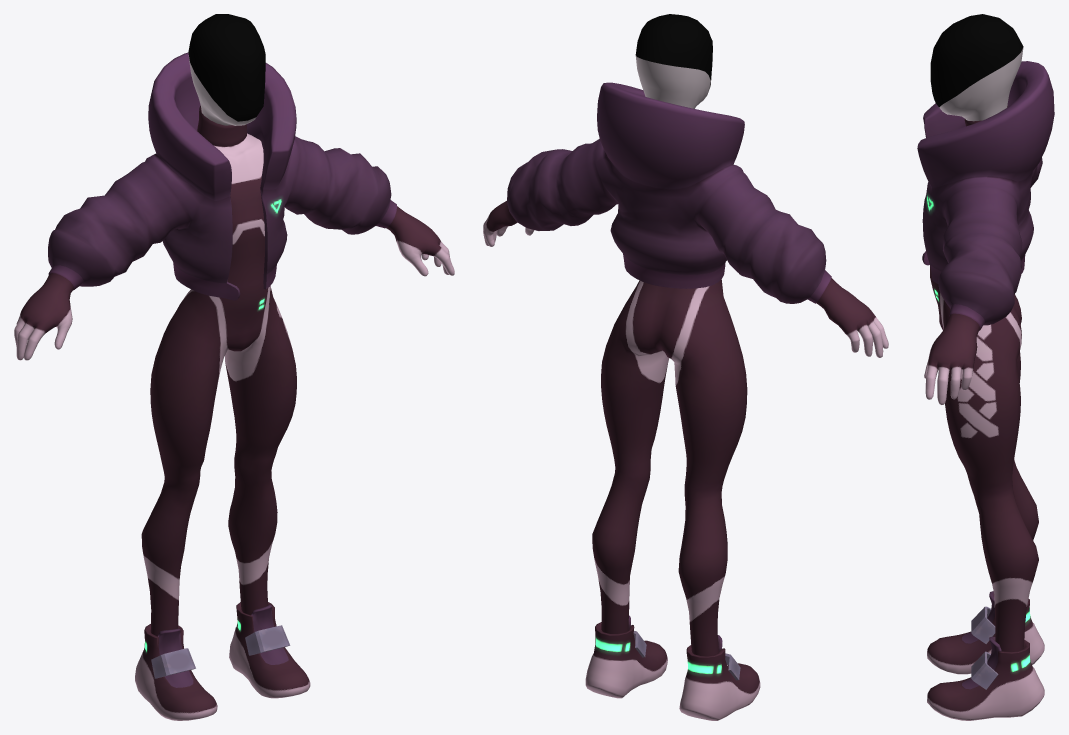
Rendered from robot.fbx.
3 renders of one model, left to right at view 1: azimuth 30°, elevation 25°; view 2: azimuth 150°, elevation 25°; view 3: azimuth 270°, elevation 25°, orthographic.
Visible parts, largest first — view 1: Robot; view 2: Robot; view 3: Robot.
Part boxes in pixels (x1=…): Robot: x1=14, y1=14, x2=454, y2=720; Robot: x1=483, y1=14, x2=888, y2=720; Robot: x1=917, y1=14, x2=1054, y2=720.
Size of the model in its own units: 68.34 by 107 by 19.79.
Materials: 3 (1 with a texture image).
